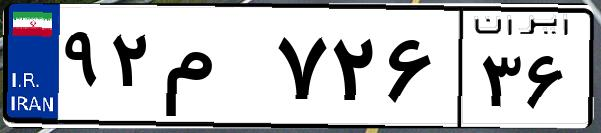2: (330, 28, 385, 110), (110, 28, 158, 98)
3: (475, 38, 525, 113)
6: (385, 28, 445, 110), (525, 38, 570, 115)
7: (270, 28, 330, 110)
9: (57, 26, 110, 100)
م: (158, 20, 270, 120)
